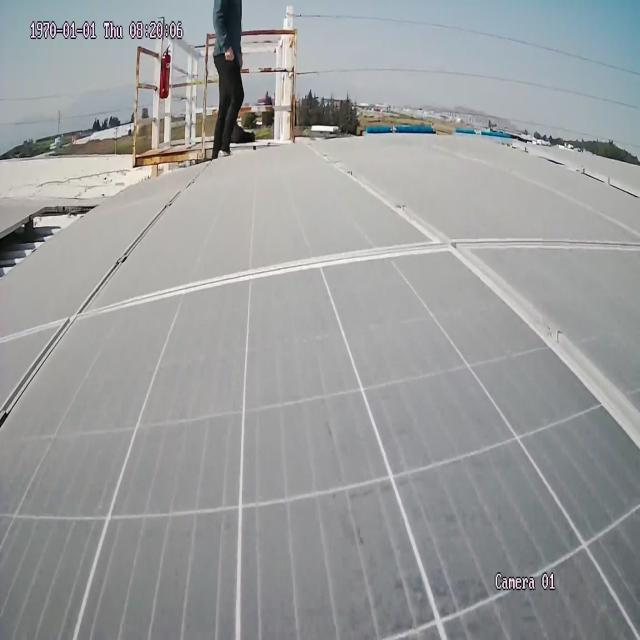interior panel: (0, 150, 640, 501)
outher panel: (0, 198, 111, 304)
